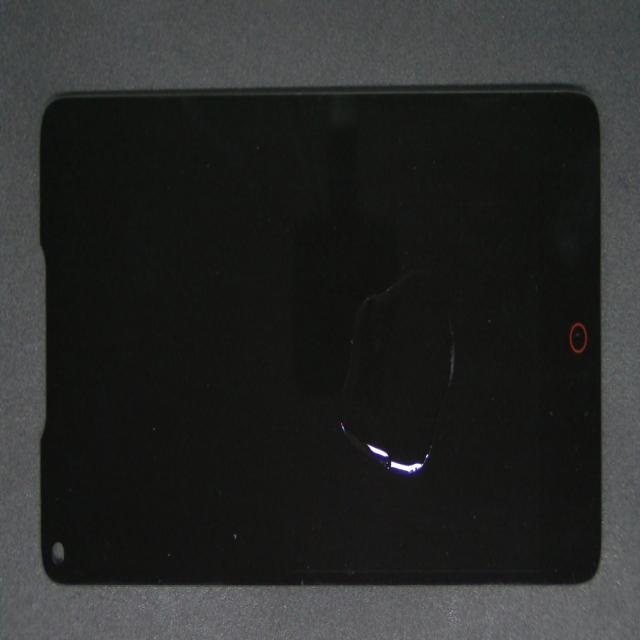oil: (196, 299, 640, 640)
